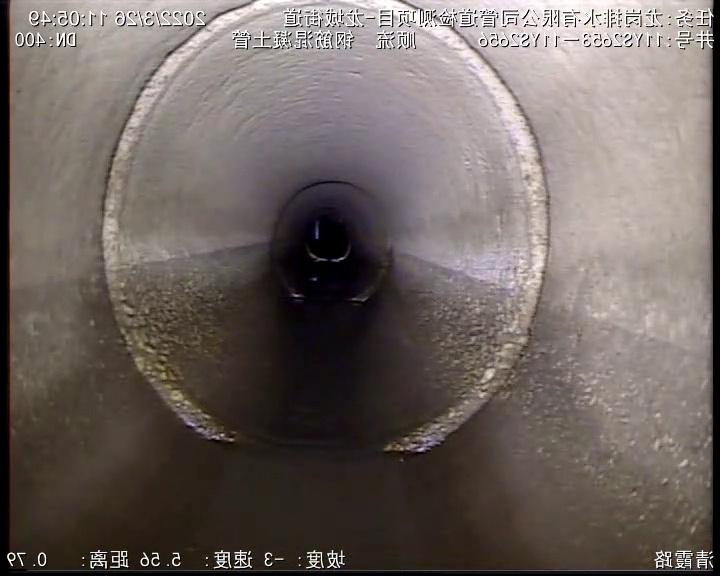CKTJ: (103, 0, 310, 442), (383, 26, 549, 453)
